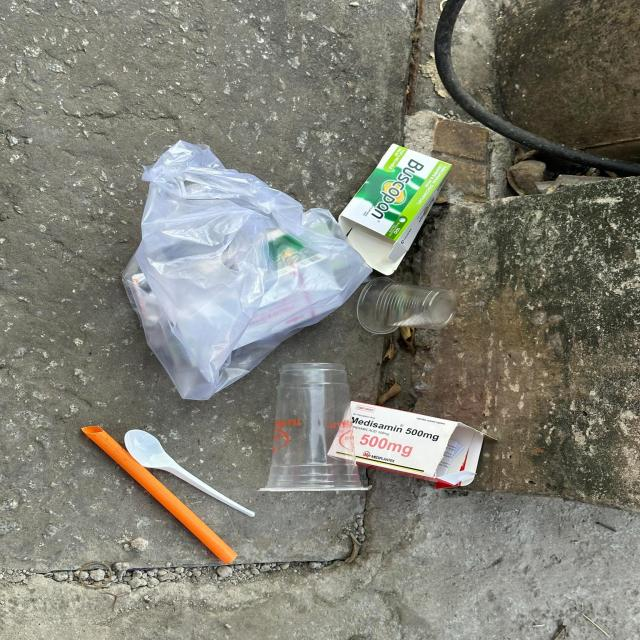cardboard box: (337, 143, 452, 275), (328, 401, 500, 488)
drinking straw: (81, 426, 237, 564)
plastic glass: (260, 362, 372, 492), (356, 276, 456, 335)
plastic utensil: (125, 429, 255, 517)
trash bag: (122, 139, 374, 400)
